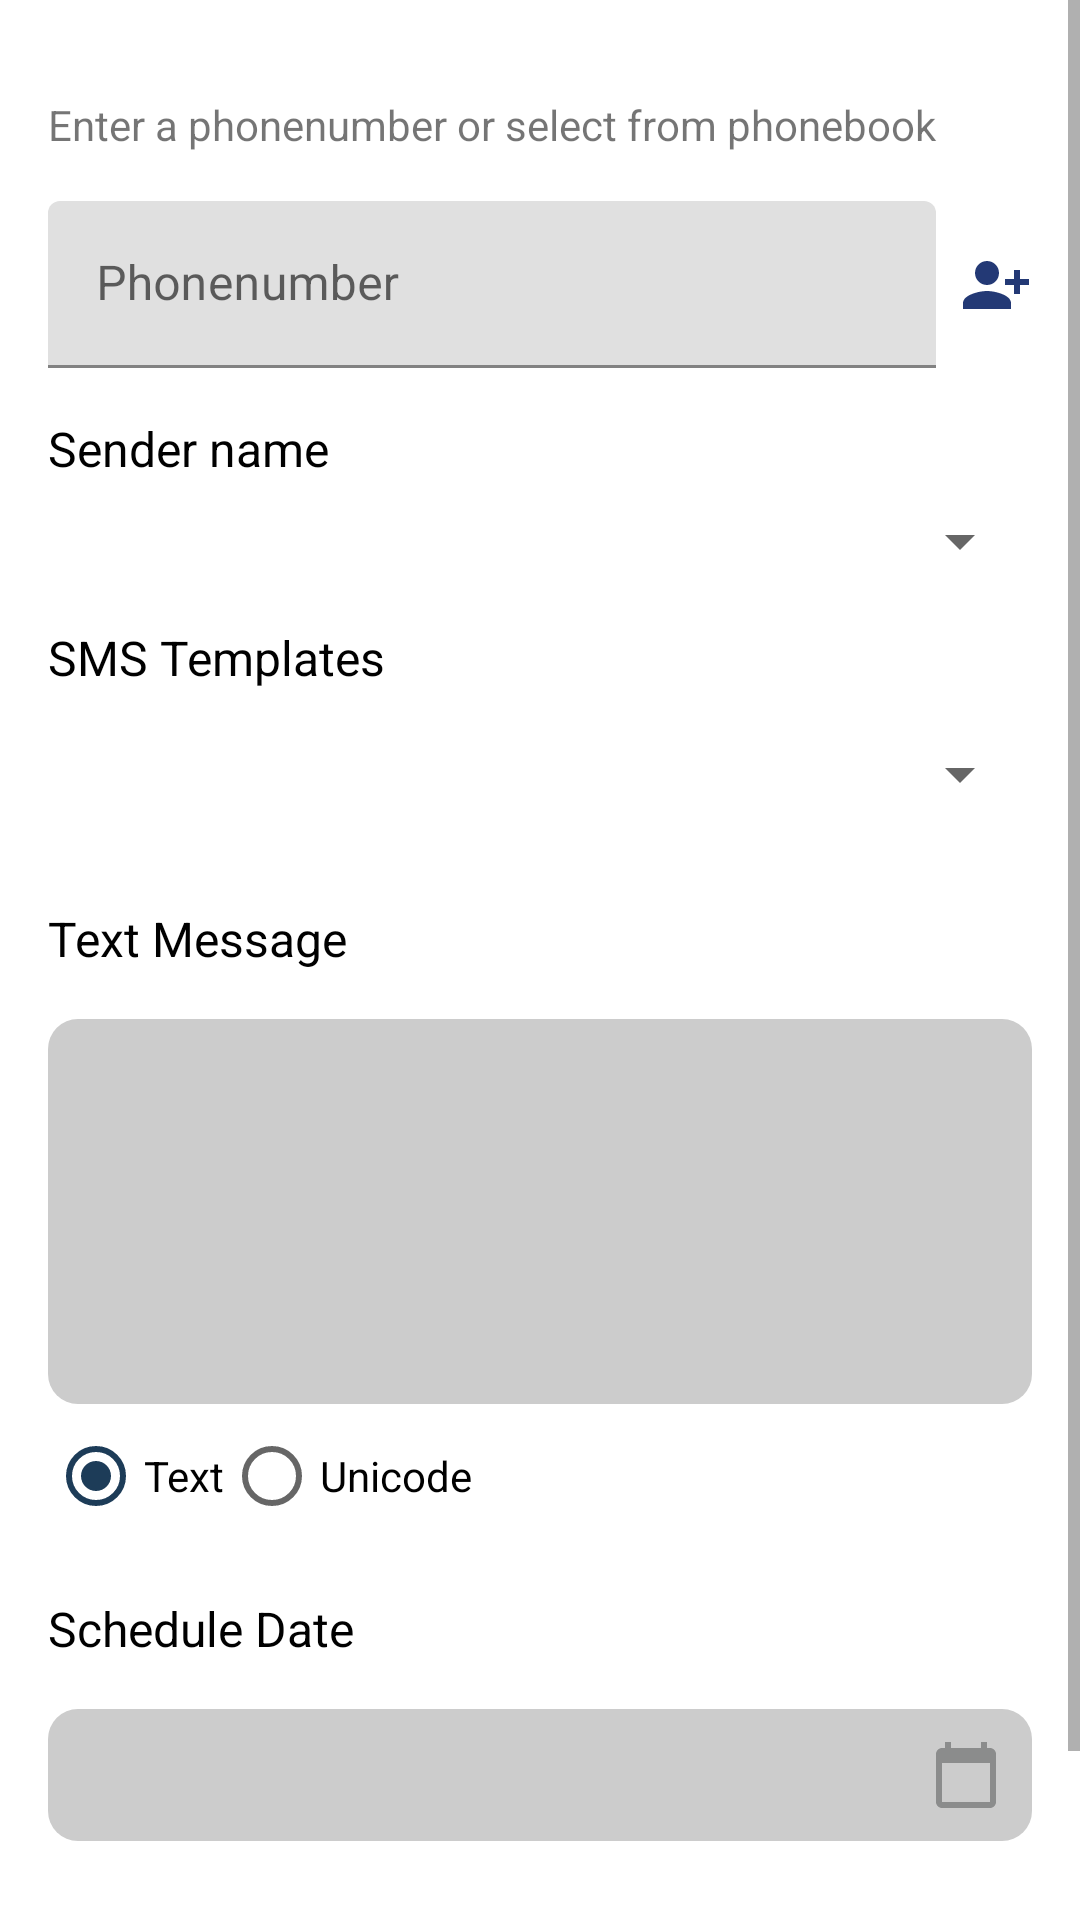

Locate icon controls on the screen. Image size 1080px x 1920px, boxes as (x1, y1, x2, y2).
person add: (963, 261, 1029, 309)
